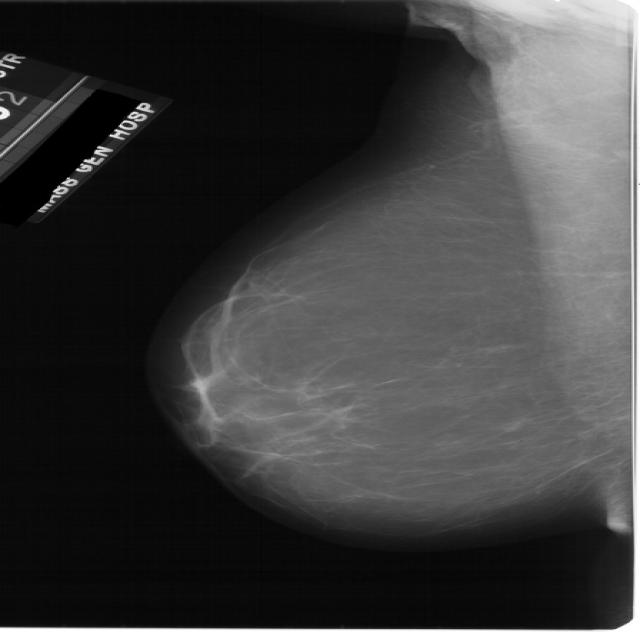tumour: (498, 419, 523, 431)
